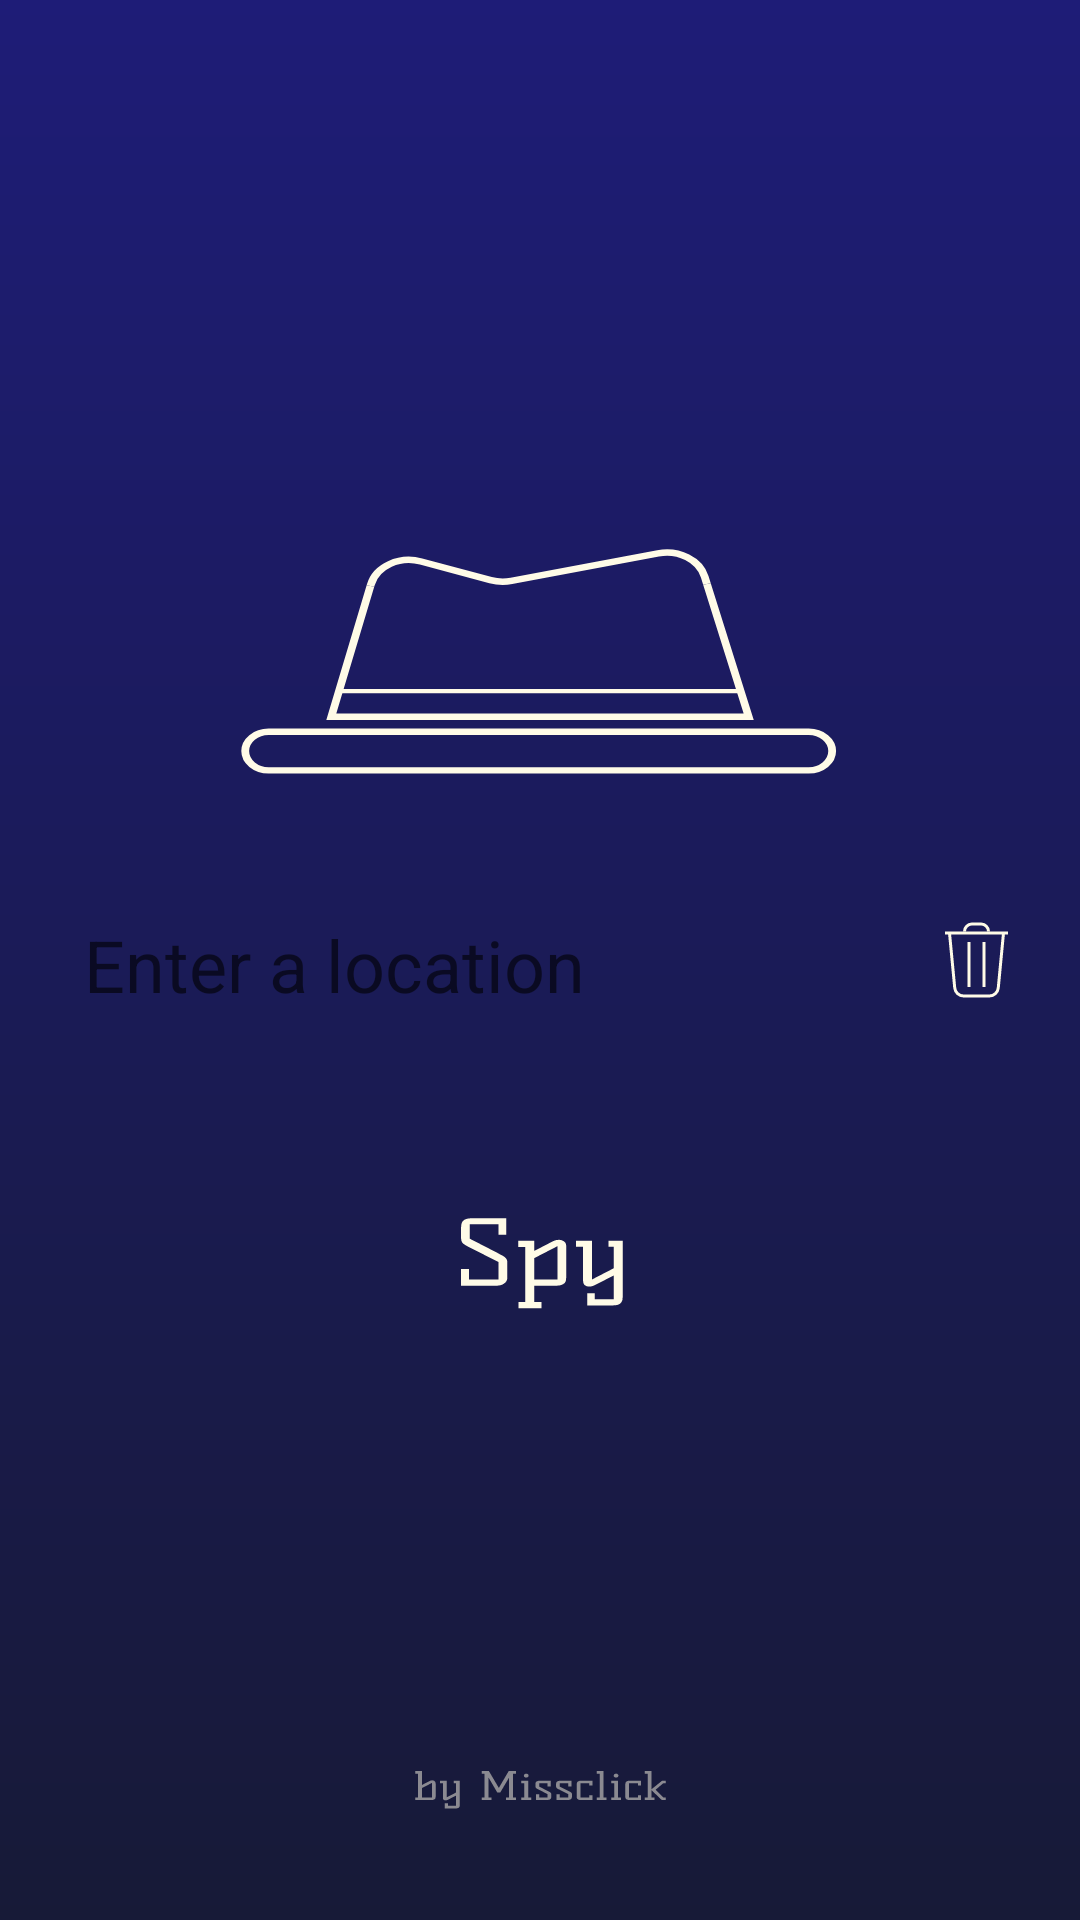

Icon bounding boxes for this 1080*1920 phone screenshot, format (x1, y1, x2, y2):
garbage: (945, 922, 1008, 998)
